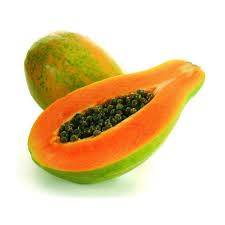papaya: (29, 59, 205, 185), (26, 30, 125, 108)
